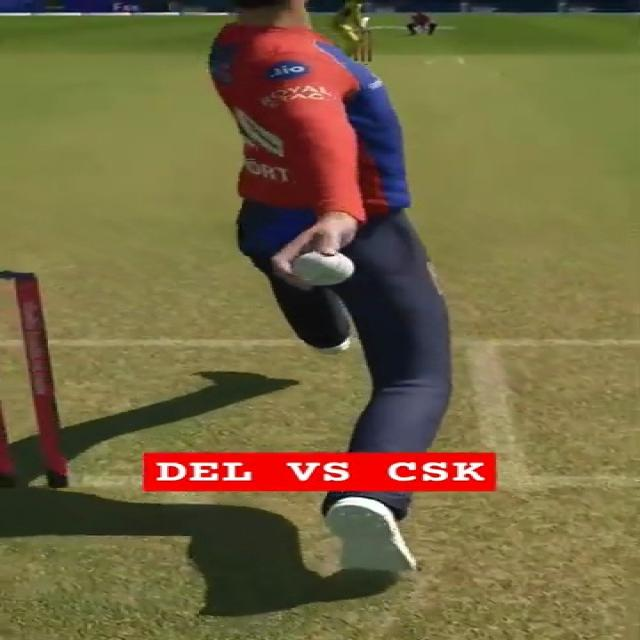ball: (288, 246, 361, 289)
